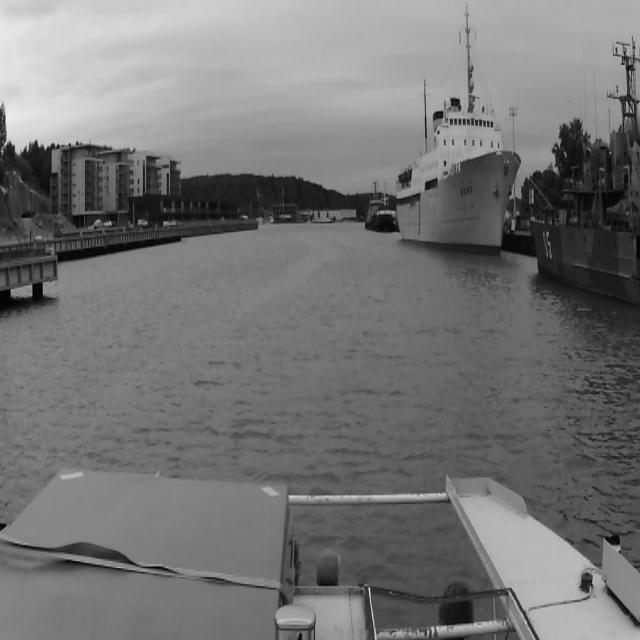ship: (530, 22, 636, 302), (397, 97, 517, 252), (365, 180, 393, 232)
